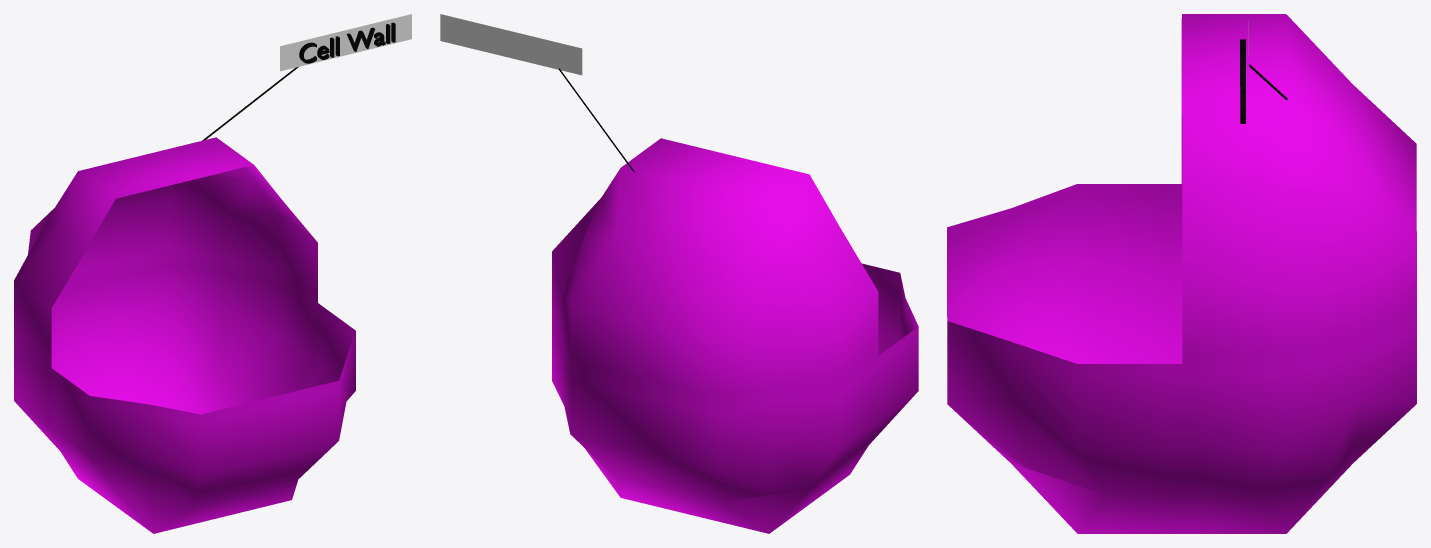
File: cellwall1.gltf
The picture shows the model from 3 angles, left to right: view 1: azimuth 30°, elevation 25°; view 2: azimuth 150°, elevation 25°; view 3: azimuth 270°, elevation 25°; orthographic projection. The views are drawn at different scales.
Visible parts, largest first — view 1: Outside, Plane.007, Text.007; view 2: Outside, Plane.007; view 3: Outside.
Boxes of the visible parts, x1,y1,x2,y2 form: Outside: [14, 137, 355, 533]; Plane.007: [280, 14, 411, 71]; Text.007: [299, 22, 395, 63]; Outside: [552, 138, 918, 533]; Plane.007: [440, 14, 582, 75]; Outside: [947, 14, 1416, 533].
Bounding box in the file's own units: 3.88 × 3.83 × 2.96.
